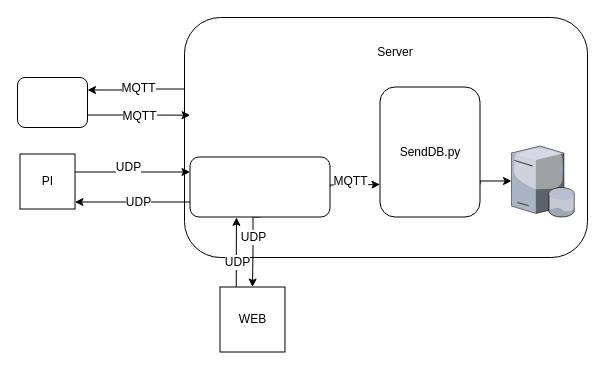
The diagram is 605 pixels wide and 370 high, and some of its shapes have lost their labels. Each missing label, with the centre of its shape:
"Cell Phone" belongs at (52,102).
"nbiotcommunication.py" belongs at (259,186).
